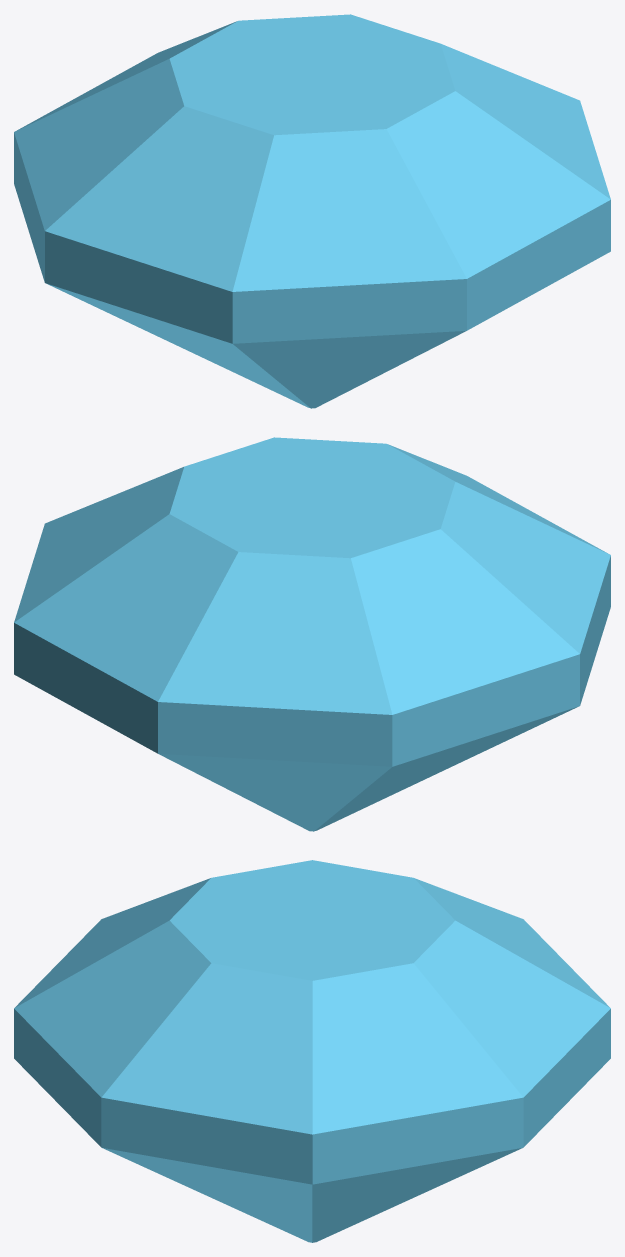
Rendered from diamant.fbx.
The picture shows the model from 3 angles, top to bottom: view 1: azimuth 30°, elevation 25°; view 2: azimuth 150°, elevation 25°; view 3: azimuth 270°, elevation 25°; orthographic projection. The views are drawn at different scales.
Parts seen in each view (by area): view 1: Circle; view 2: Circle; view 3: Circle.
Boxes of the visible parts, x1,y1,x2,y2 form: Circle: (14,14,610,408); Circle: (14,437,610,831); Circle: (14,860,610,1242).
Bounding box in the file's own units: 269 × 159 × 269.
